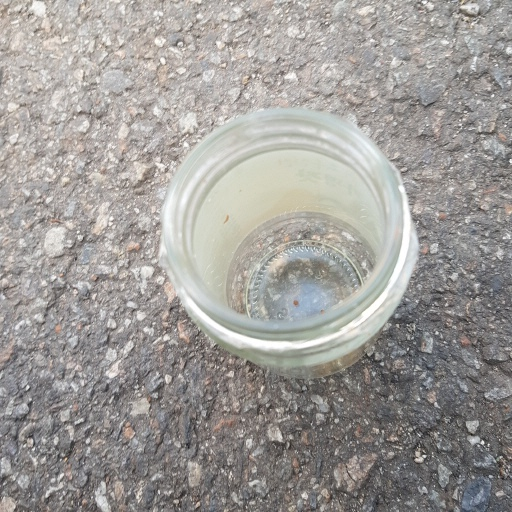Glass_5: (158, 109, 424, 379)
